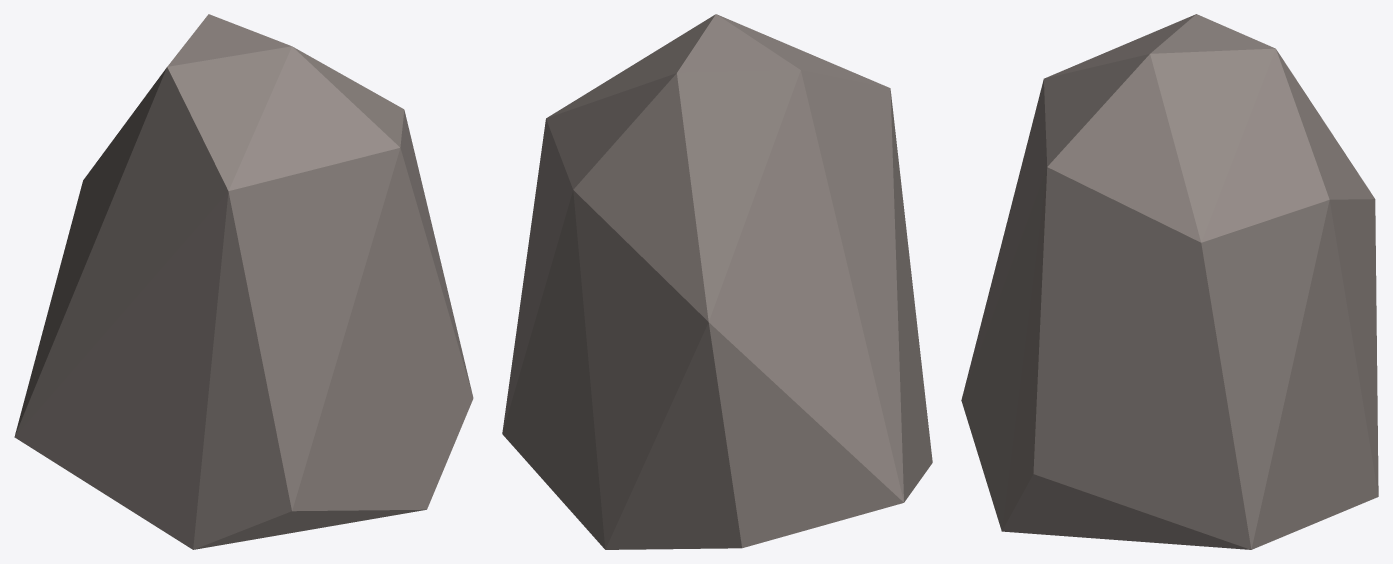
File: BigRock.obj
The picture shows the model from 3 angles, left to right: view 1: azimuth 30°, elevation 25°; view 2: azimuth 150°, elevation 25°; view 3: azimuth 270°, elevation 25°; orthographic projection. The views are drawn at different scales.
Parts seen in each view (by area): view 1: Rock4_Cylinder.019; view 2: Rock4_Cylinder.019; view 3: Rock4_Cylinder.019.
Boxes of the visible parts, x1,y1,x2,y2 form: Rock4_Cylinder.019: [14, 14, 473, 549]; Rock4_Cylinder.019: [502, 14, 932, 549]; Rock4_Cylinder.019: [961, 14, 1378, 549].
Bounding box in the file's own units: 3.73 × 3.98 × 3.38.
